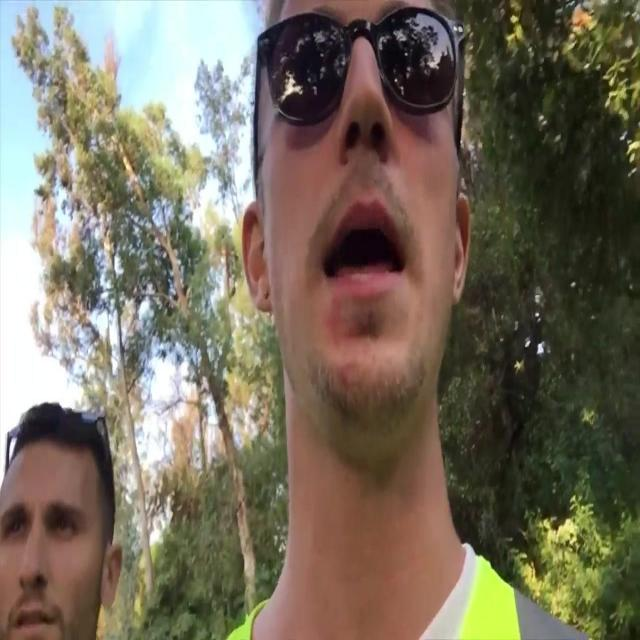Reflective-Jacket: (222, 540, 592, 640)
